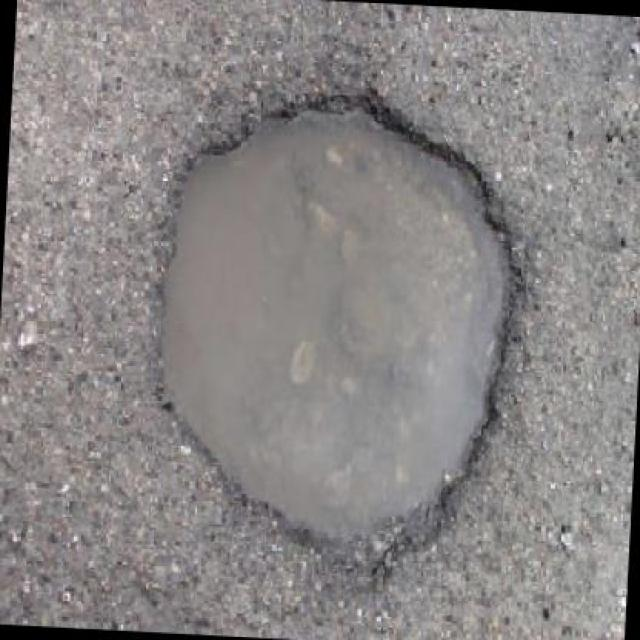pothole1: (137, 72, 535, 588)
